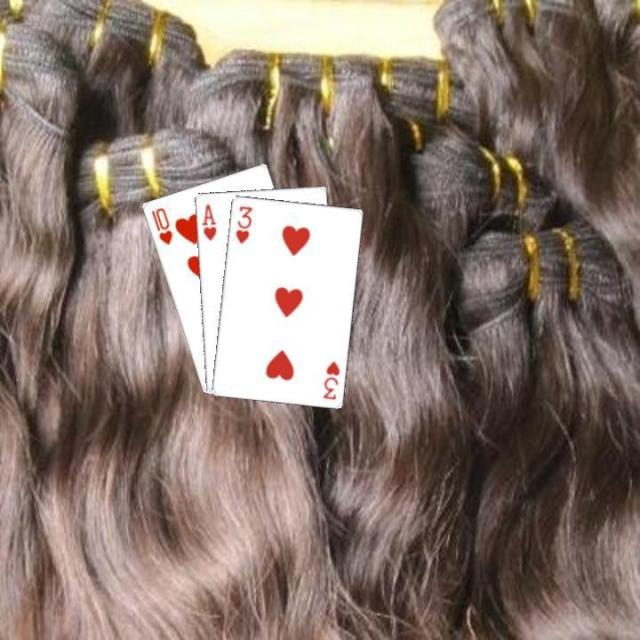10H: (147, 204, 174, 246)
3H: (319, 356, 341, 401), (231, 202, 254, 245)
AH: (198, 200, 218, 242)
